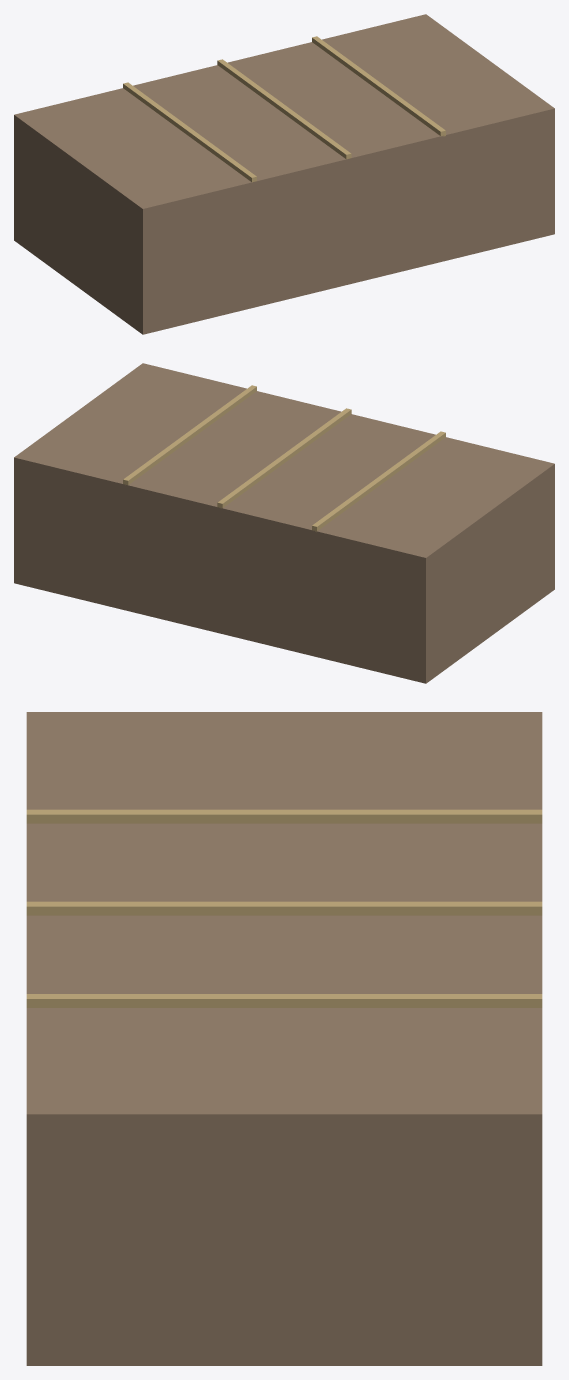
File: PR-LETTERBOX.glb
3 renders of one model, top to bottom at view 1: azimuth 30°, elevation 25°; view 2: azimuth 150°, elevation 25°; view 3: azimuth 270°, elevation 25°, orthographic. The views are drawn at different scales.
Parts seen in each view (by area): view 1: box, copper_inlay (×3); view 2: box, copper_inlay (×3); view 3: box, copper_inlay (×3).
Boxes of the visible parts, x1,y1,x2,y2 form: box: (14, 14, 554, 334); copper_inlay (×3): (123, 36, 445, 182); box: (14, 363, 554, 683); copper_inlay (×3): (123, 385, 445, 532); box: (26, 712, 542, 1365); copper_inlay (×3): (26, 809, 542, 1007).
Size of the model in its own units: 0.24 by 0.0725 by 0.13.
